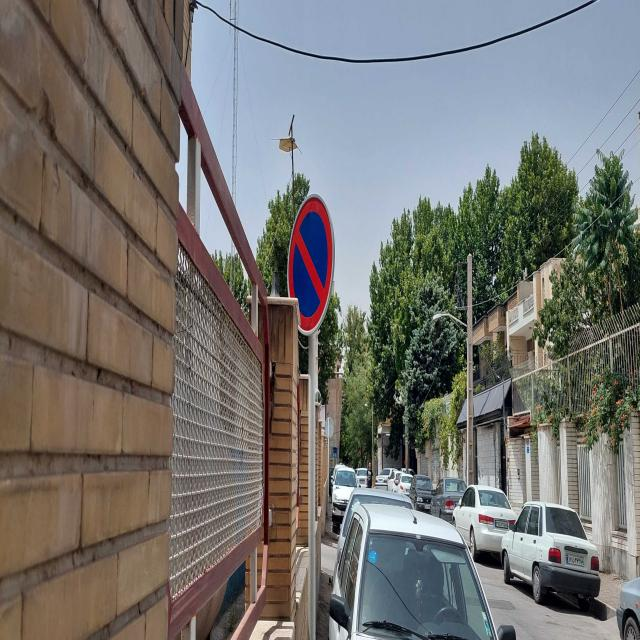forb_stopping: (286, 191, 335, 337)
